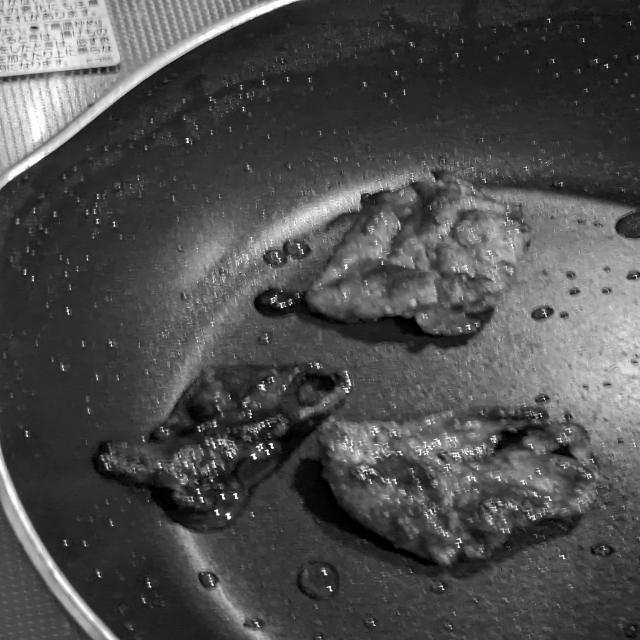overcooked pork: (319, 397, 606, 576), (73, 358, 369, 526), (285, 165, 543, 347)
